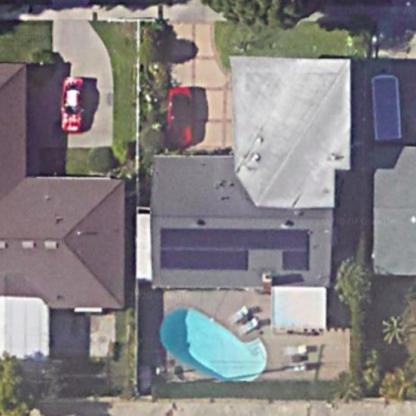car: (160, 79, 196, 154), (51, 75, 89, 138)
solar_panel: (152, 221, 314, 277)
swimming_pool: (155, 307, 284, 391)
